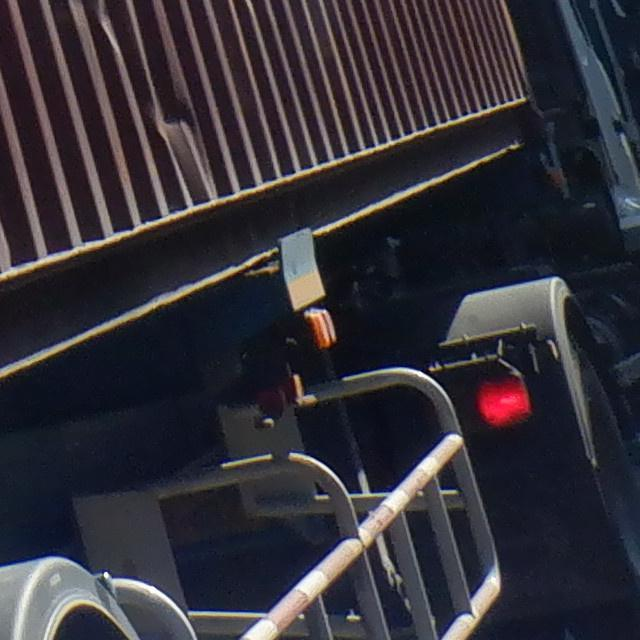dent: (135, 86, 229, 178), (85, 2, 139, 57)
